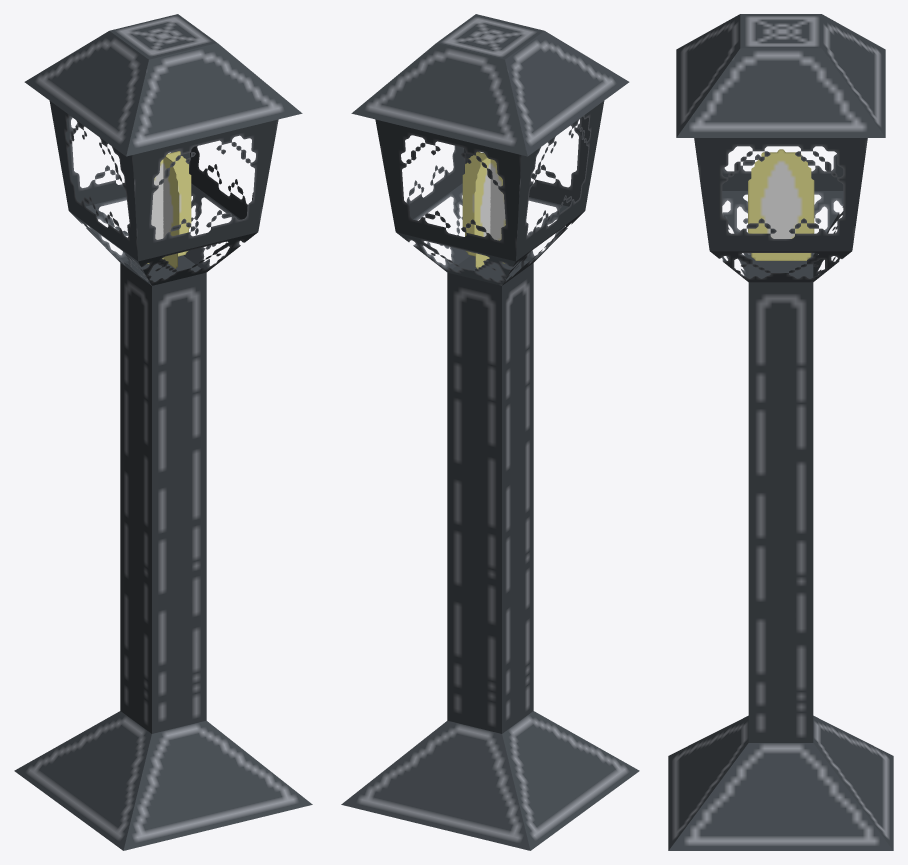
File: Lamppost.fbx
3 renders of one model, left to right at view 1: azimuth 30°, elevation 25°; view 2: azimuth 150°, elevation 25°; view 3: azimuth 270°, elevation 25°, orthographic. The views are drawn at different scales.
Visible parts, largest first — view 1: Lantern; view 2: Lantern; view 3: Lantern.
Boxes of the visible parts, box(x1,y1,x2,y2) form: Lantern: box(14, 14, 312, 850); Lantern: box(341, 14, 639, 850); Lantern: box(668, 14, 893, 850).
Bounding box in the file's own units: 0.3813 × 0.3813 × 1.44.
1 material, 1 textured.
